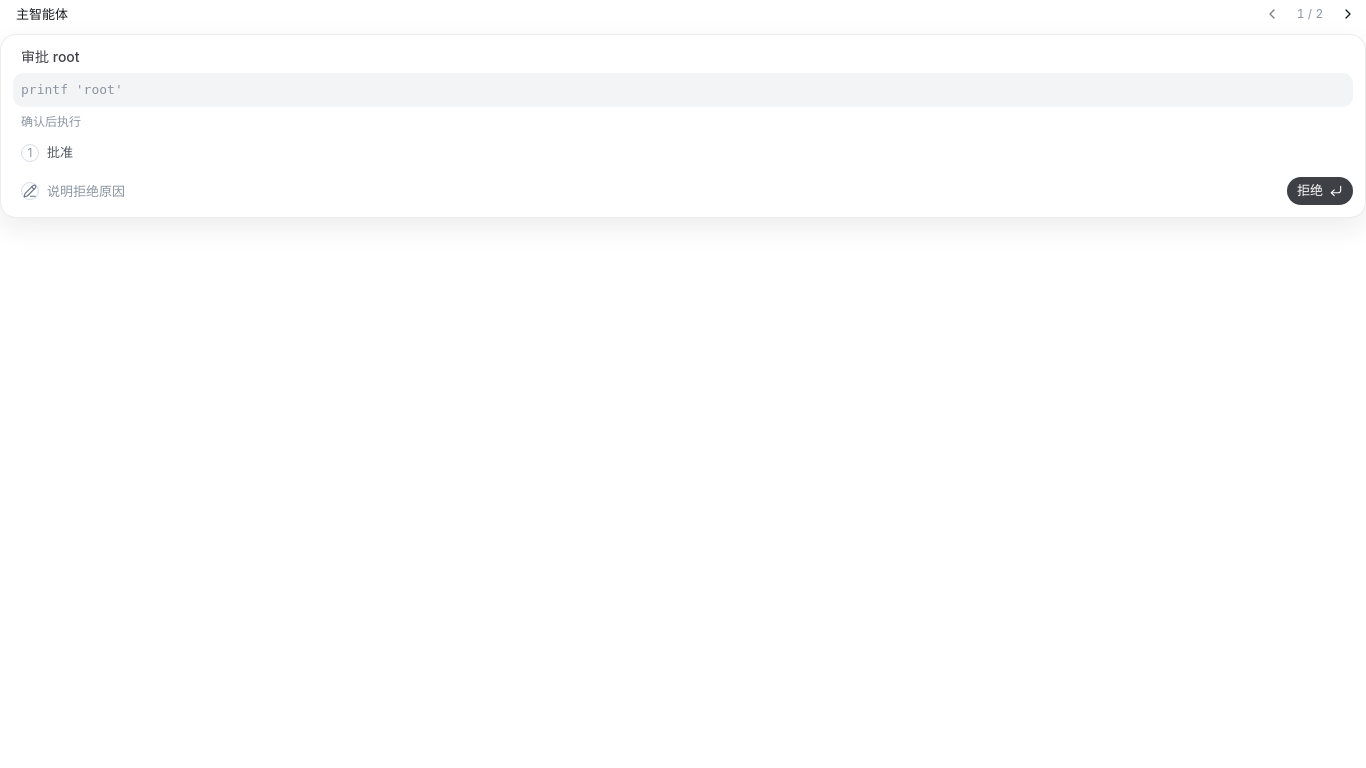
Test: ConversationApprovalQueue › shows one mixed approval at a time and disables navigation at each end
Expected: the text "主智能体" is shown, [16,5,68,23]
Expected: the button named "上一条审批" is disabled, [1258,0,1286,28]
Click the button named "下一条审批": click(1348, 14) [1334,0,1362,28]
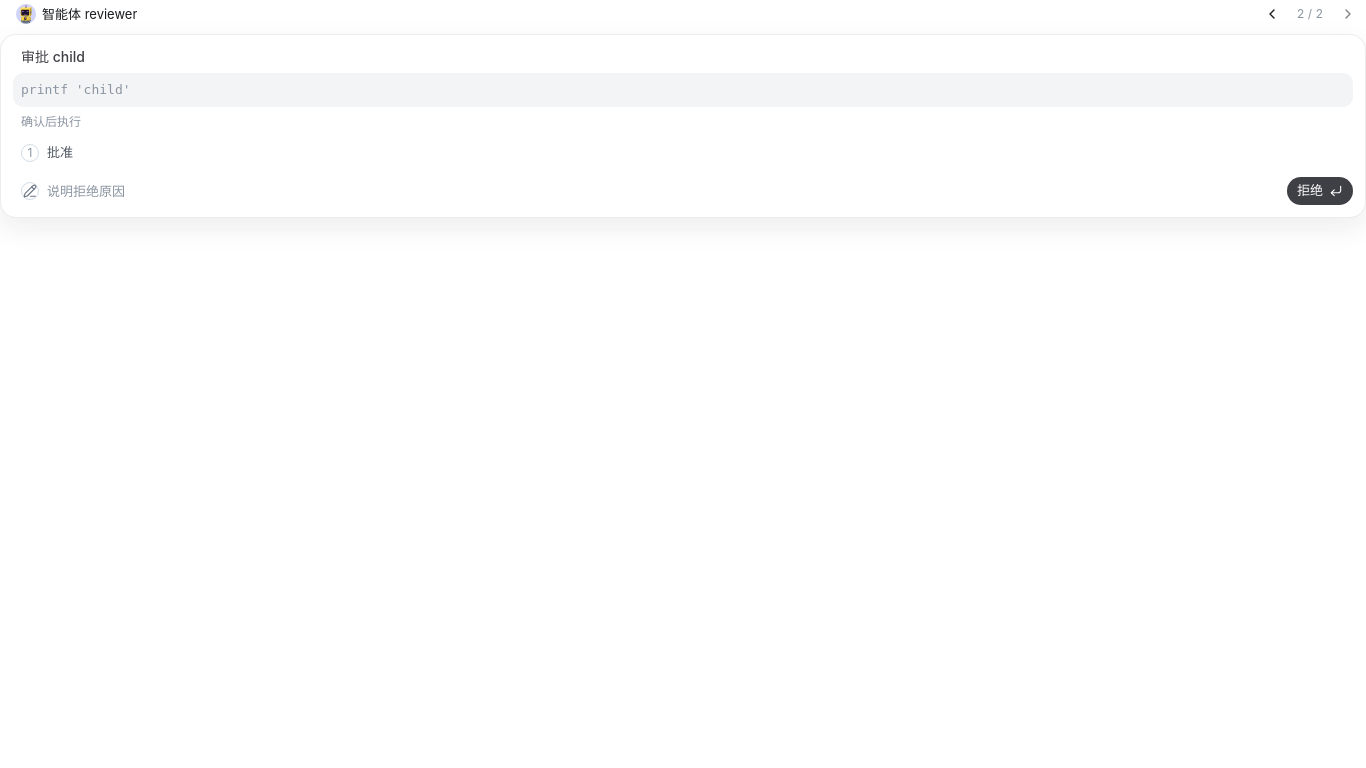
Expected: the button named "上一条审批" is enabled, [1258,0,1286,28]
Now the dialog "审批 child printf 'child' 确认后执行 1 批准 拒绝" is shown, box [0,34,1365,218]
